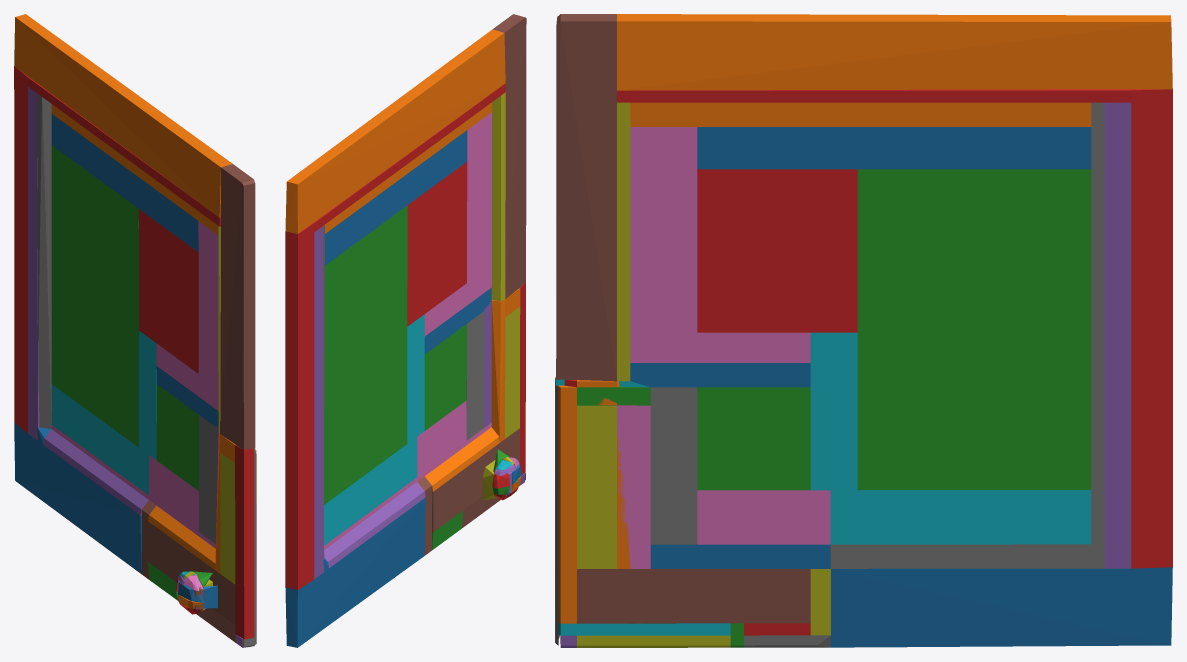
The model's file is Door_03_cvx.obj.
The picture shows the model from 3 angles, left to right: view 1: azimuth 30°, elevation 25°; view 2: azimuth 150°, elevation 25°; view 3: azimuth 270°, elevation 25°; orthographic projection. The views are drawn at different scales.
Visible parts, largest first — view 1: scenes/apartment_0000_coacd/output/Unknown/Kitchen_Oven/Door_03/; view 2: scenes/apartment_0000_coacd/output/Unknown/Kitchen_Oven/Door_03/; view 3: scenes/apartment_0000_coacd/output/Unknown/Kitchen_Oven/Door_03/.
Part boxes in pixels (x1,y1,x2,y2): scenes/apartment_0000_coacd/output/Unknown/Kitchen_Oven/Door_03/: (14,14,256,647); scenes/apartment_0000_coacd/output/Unknown/Kitchen_Oven/Door_03/: (285,14,526,647); scenes/apartment_0000_coacd/output/Unknown/Kitchen_Oven/Door_03/: (555,14,1172,647).
Bounding box in the file's own units: 0.0602 × 0.6613 × 0.5899.
